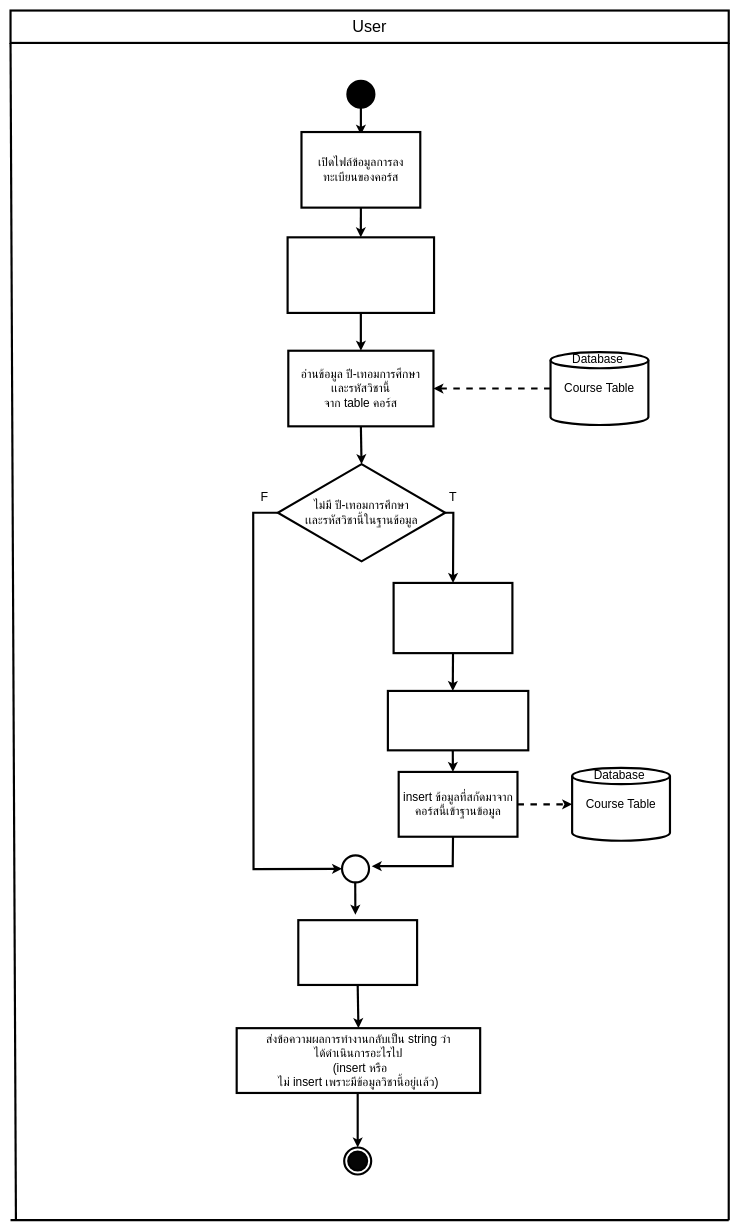
This 739x1231 diagram has some shape labels left out. The shapes that lost their labels are listed below. From the top down, each one's box as (x1, y1, x2, y2) in pixels, then its label:
(286, 236, 435, 314): สกัดข้อมูล ปี-เทอมการศึกษา เเละรหัสวิชาจากส่วนหัวของไฟล์
(392, 582, 513, 654): สกัดข้อมูลรหัสวิชา ปี-เทอมการศึกษา วันเวลาเเละห้องเรียน จากไฟล์
(387, 690, 529, 751): ตั้งชื่อ course_id จาก Year + Term + subj_code
(297, 919, 418, 986): บันทึก activity ที่ทำเข้า log file
